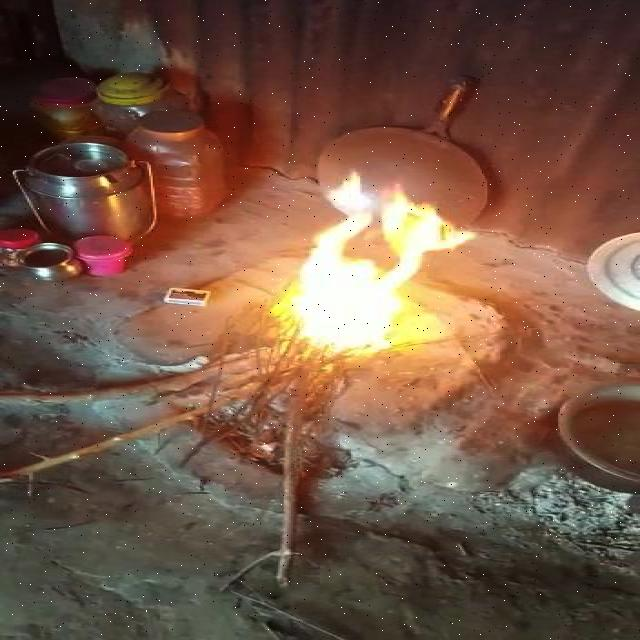fire: (268, 160, 488, 387)
